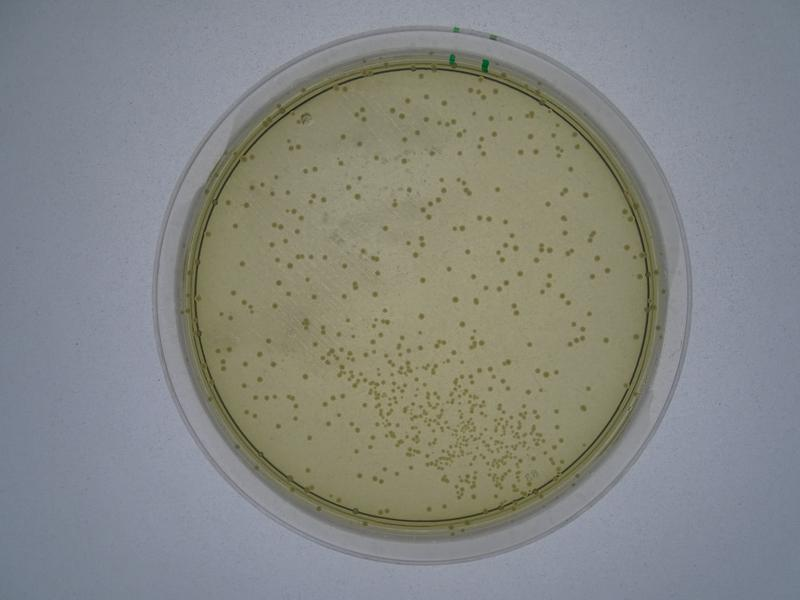colony: (581, 190, 593, 203), (236, 258, 248, 269), (587, 270, 597, 283), (338, 129, 348, 142), (491, 185, 503, 195), (417, 274, 427, 285), (601, 334, 612, 344), (398, 156, 409, 165), (544, 198, 553, 208), (566, 164, 575, 174), (457, 319, 467, 328), (443, 265, 454, 273), (429, 148, 437, 159), (416, 312, 425, 321), (228, 288, 236, 298), (262, 337, 272, 345), (339, 293, 348, 301), (465, 247, 474, 255), (381, 223, 388, 233), (274, 279, 282, 287), (354, 193, 362, 201), (412, 251, 420, 259), (451, 296, 458, 304), (302, 372, 309, 380), (306, 433, 312, 442), (342, 262, 348, 269), (232, 222, 238, 229)
